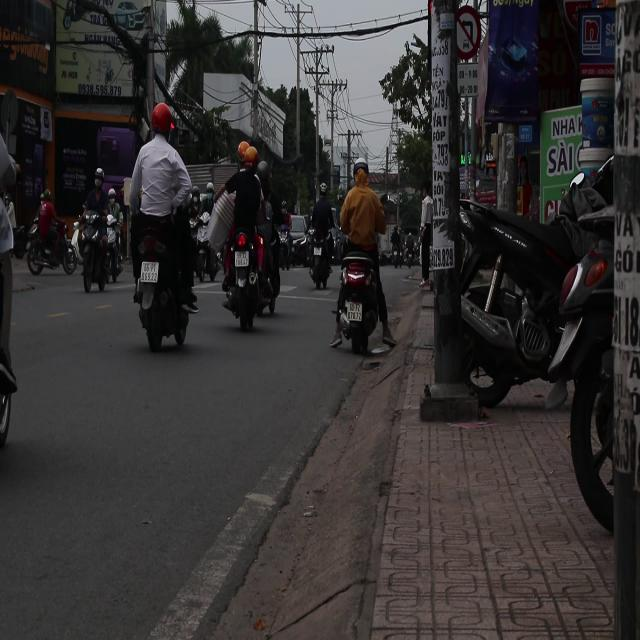car: (288, 216, 312, 270)
motorbike: (458, 182, 580, 384), (560, 192, 621, 534), (130, 219, 197, 354), (216, 211, 277, 334), (332, 254, 392, 354), (70, 210, 118, 293), (25, 218, 79, 276), (311, 236, 333, 281)
